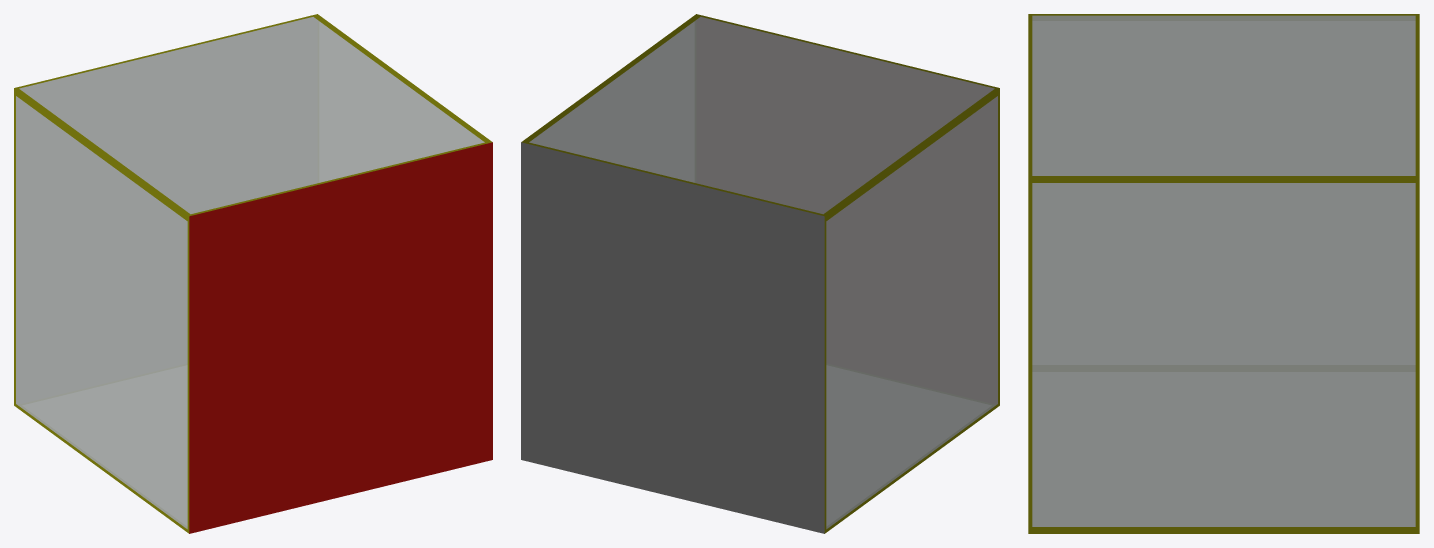
File: idf.obj
3 views of the same model, side by side, from view 1: azimuth 30°, elevation 25°; view 2: azimuth 150°, elevation 25°; view 3: azimuth 270°, elevation 25° (orthographic). The views are drawn at different scales.
Bounding box in the file's own units: 10 × 10 × 10.
